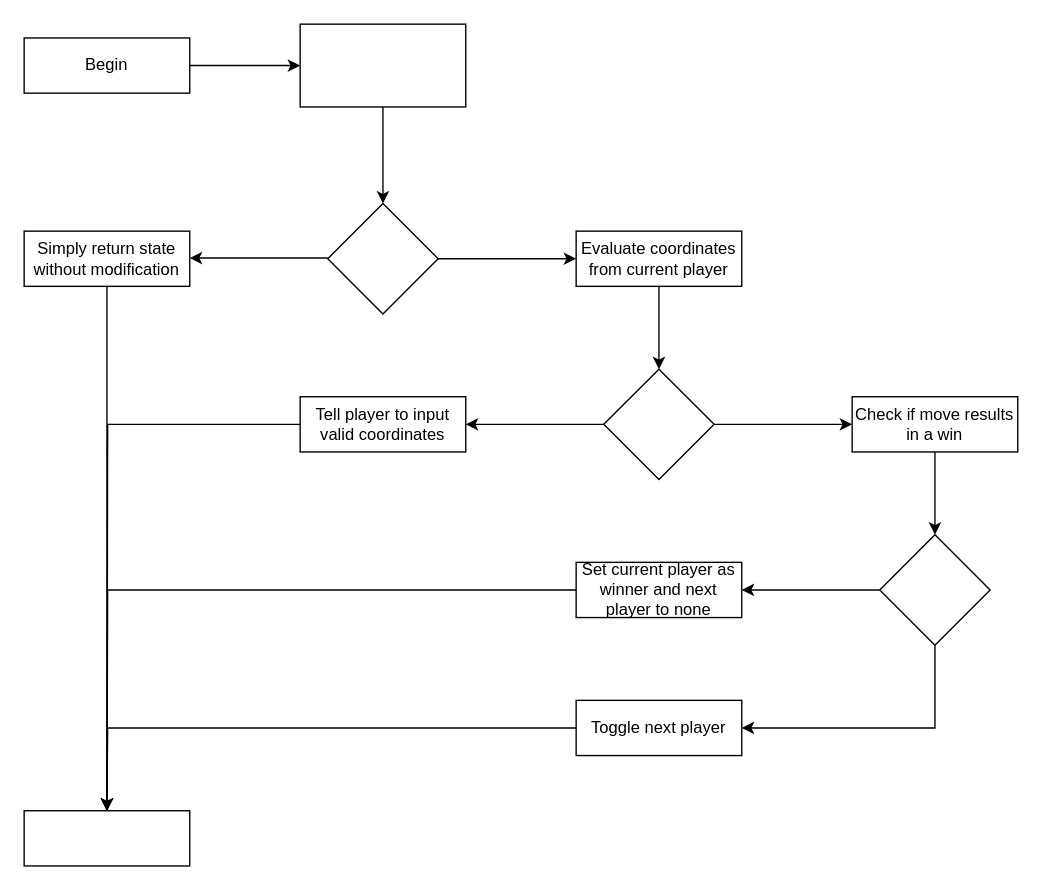
Image size: 1042x890. Some labels were removed from this diagram. Each missing label, with the box of its shape:
Check if game has ended or is still running: (299, 23, 466, 107)
End: (23, 809, 190, 866)
